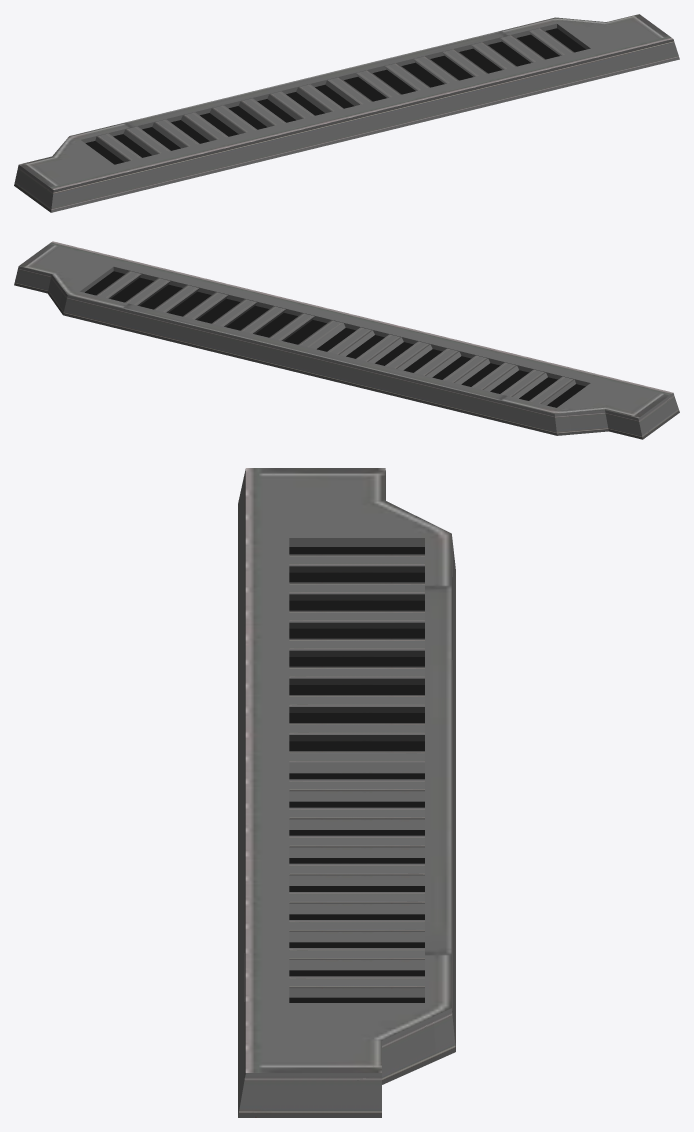
The model's file is Prop_Vent_Wide.glb.
3 renders of one model, top to bottom at view 1: azimuth 30°, elevation 25°; view 2: azimuth 150°, elevation 25°; view 3: azimuth 270°, elevation 25°, orthographic. The views are drawn at different scales.
Parts seen in each view (by area): view 1: Prop_Vent_Wide; view 2: Prop_Vent_Wide; view 3: Prop_Vent_Wide.
Part boxes in pixels (x1=…): Prop_Vent_Wide: x1=14, y1=14, x2=679, y2=212; Prop_Vent_Wide: x1=14, y1=241, x2=679, y2=439; Prop_Vent_Wide: x1=238, y1=468, x2=455, y2=1117.
Size of the model in its own units: 1.94 by 0.0596 by 0.291.
Materials: 3 (2 with a texture image).
